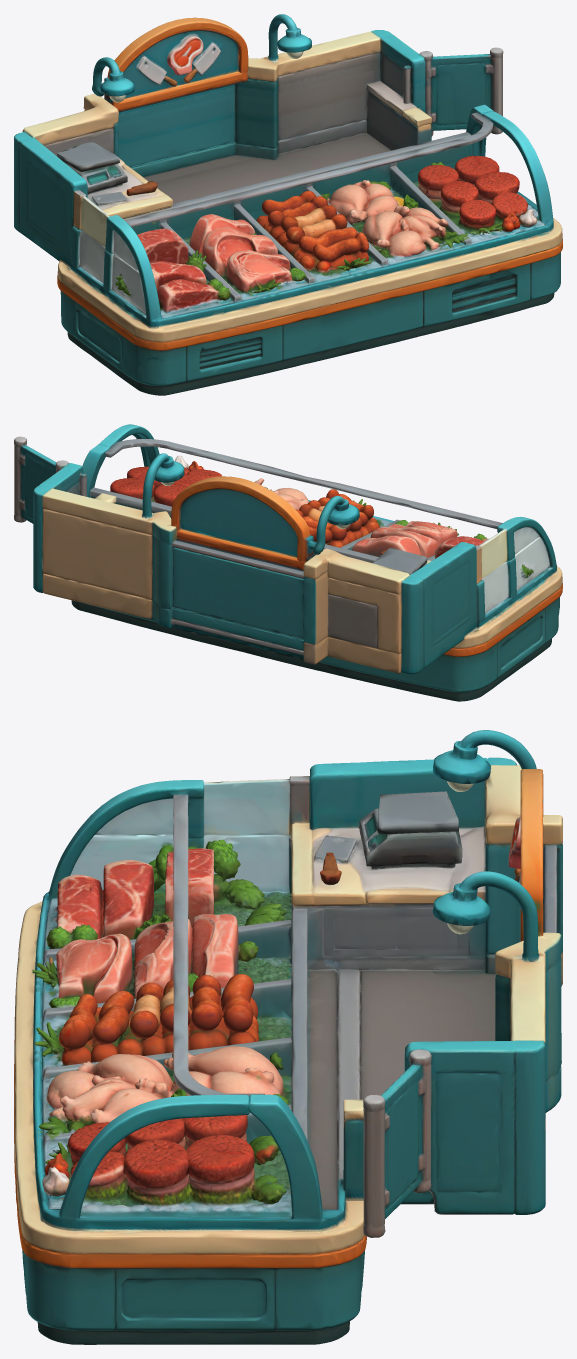
File: ButcherDisplay.fbx
The picture shows the model from 3 angles, top to bottom: view 1: azimuth 30°, elevation 25°; view 2: azimuth 150°, elevation 25°; view 3: azimuth 270°, elevation 25°; orthographic projection. The views are drawn at different scales.
Visible parts, largest first — view 1: tripo_node_2657b4c7-289e-4c63-89eb-e8010dac5a24; view 2: tripo_node_2657b4c7-289e-4c63-89eb-e8010dac5a24; view 3: tripo_node_2657b4c7-289e-4c63-89eb-e8010dac5a24.
Part boxes in pixels (x1,y1,x2,y2): tripo_node_2657b4c7-289e-4c63-89eb-e8010dac5a24: (14, 14, 562, 395); tripo_node_2657b4c7-289e-4c63-89eb-e8010dac5a24: (14, 424, 562, 701); tripo_node_2657b4c7-289e-4c63-89eb-e8010dac5a24: (14, 730, 562, 1344).
Size of the model in its own units: 97.96 by 45.91 by 61.42.
Materials: 1 (1 with a texture image).
